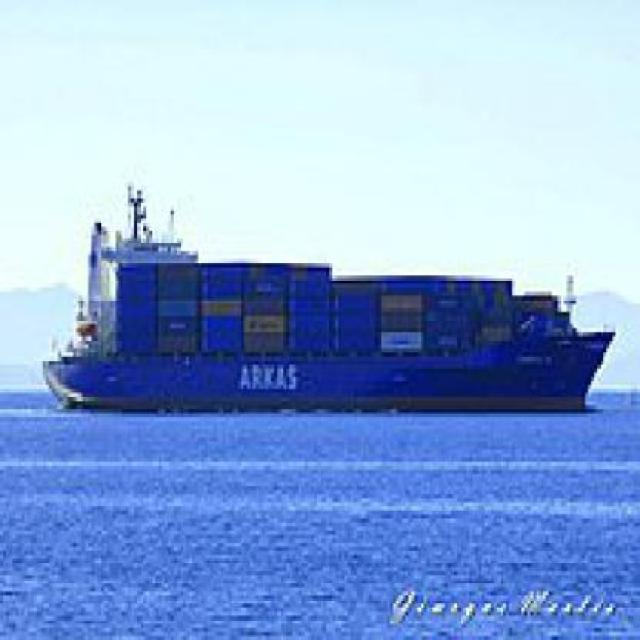container: (41, 195, 624, 422)
